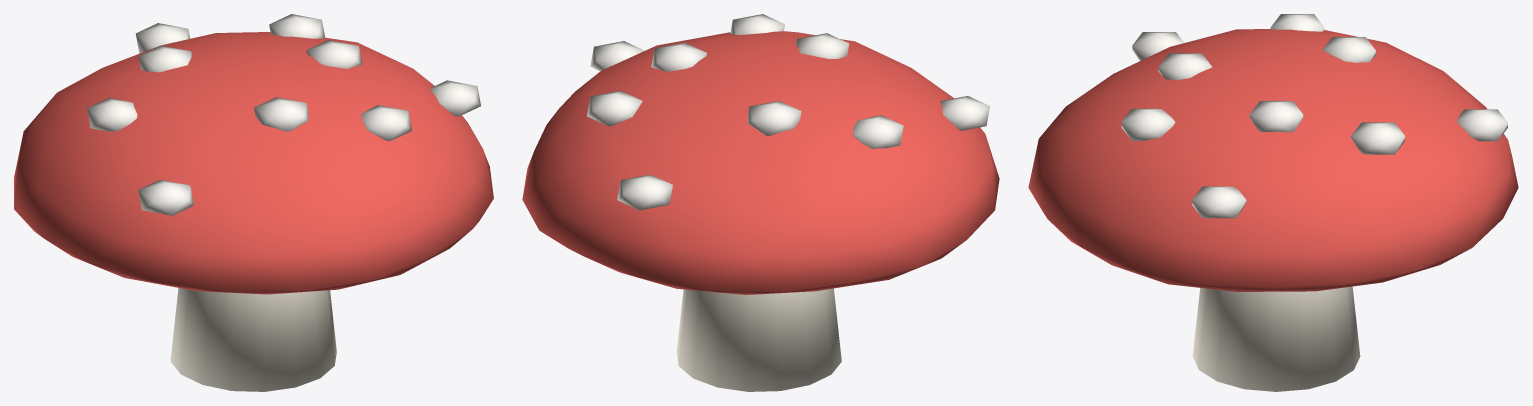
The model's file is Mushroom.fbx.
3 views of the same model, side by side, from view 1: azimuth 30°, elevation 25°; view 2: azimuth 150°, elevation 25°; view 3: azimuth 270°, elevation 25° (orthographic).
Parts seen in each view (by area): view 1: Mushroom; view 2: Mushroom; view 3: Mushroom.
Part boxes in pixels (left/top/right/bottom): Mushroom: left=14, top=14, right=493, bottom=391; Mushroom: left=522, top=14, right=999, bottom=391; Mushroom: left=1028, top=14, right=1518, bottom=391.
Bounding box in the file's own units: 2.56 × 1.74 × 2.63.
